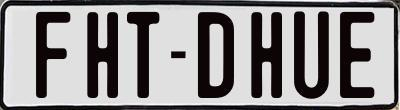D: (195, 12, 233, 98)
E: (337, 10, 374, 102)
F: (35, 10, 69, 99)
H: (251, 11, 283, 99), (86, 9, 117, 97)
T: (125, 10, 160, 101)
U: (294, 10, 329, 104)
